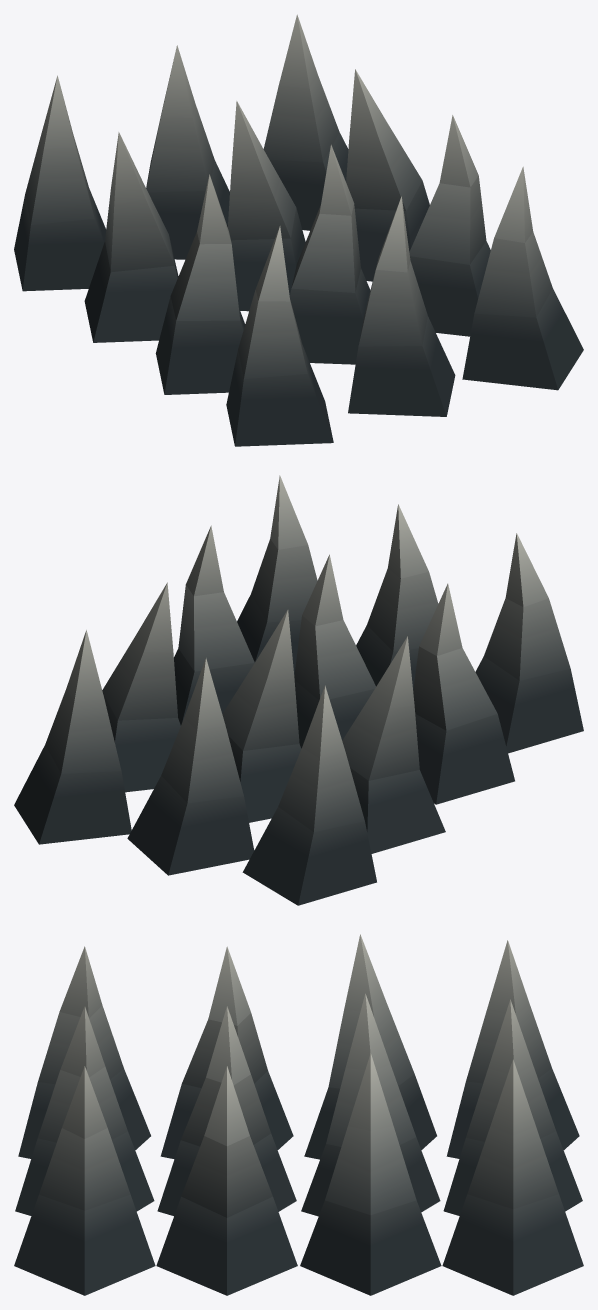
Rendered from P_Spike_Single_000.fbx.
3 views of the same model, one above another, from view 1: azimuth 30°, elevation 25°; view 2: azimuth 150°, elevation 25°; view 3: azimuth 270°, elevation 25° (orthographic). The views are drawn at different scales.
Visible parts, largest first — view 1: SM_Spike_Single_000; view 2: SM_Spike_Single_000; view 3: SM_Spike_Single_000.
Part boxes in pixels (x1,y1,x2,y2): SM_Spike_Single_000: (14,14,583,446); SM_Spike_Single_000: (14,475,583,905); SM_Spike_Single_000: (14,934,583,1295).
Size of the model in its own units: 2.28 by 1.2 by 3.09.
